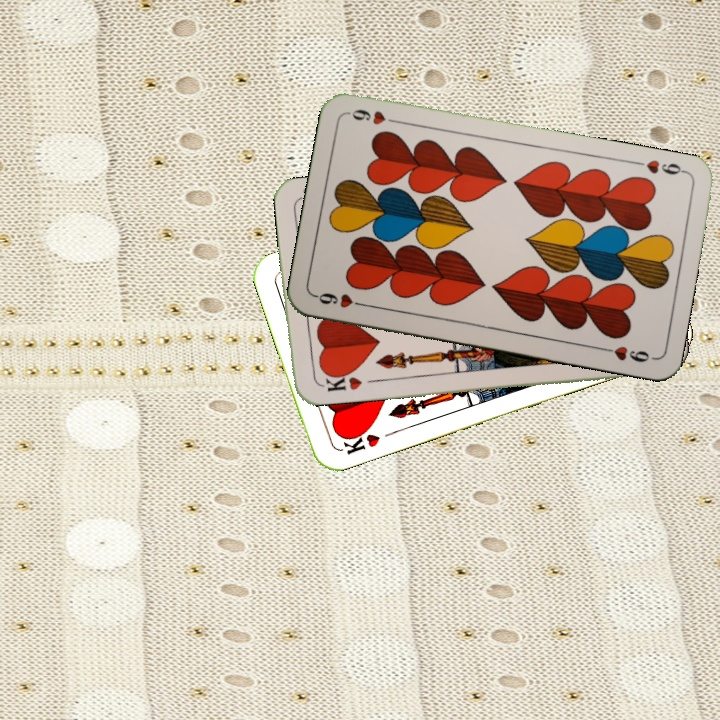H9: (311, 288, 370, 311), (642, 156, 690, 178)
HK: (337, 424, 383, 457), (314, 366, 364, 394)
